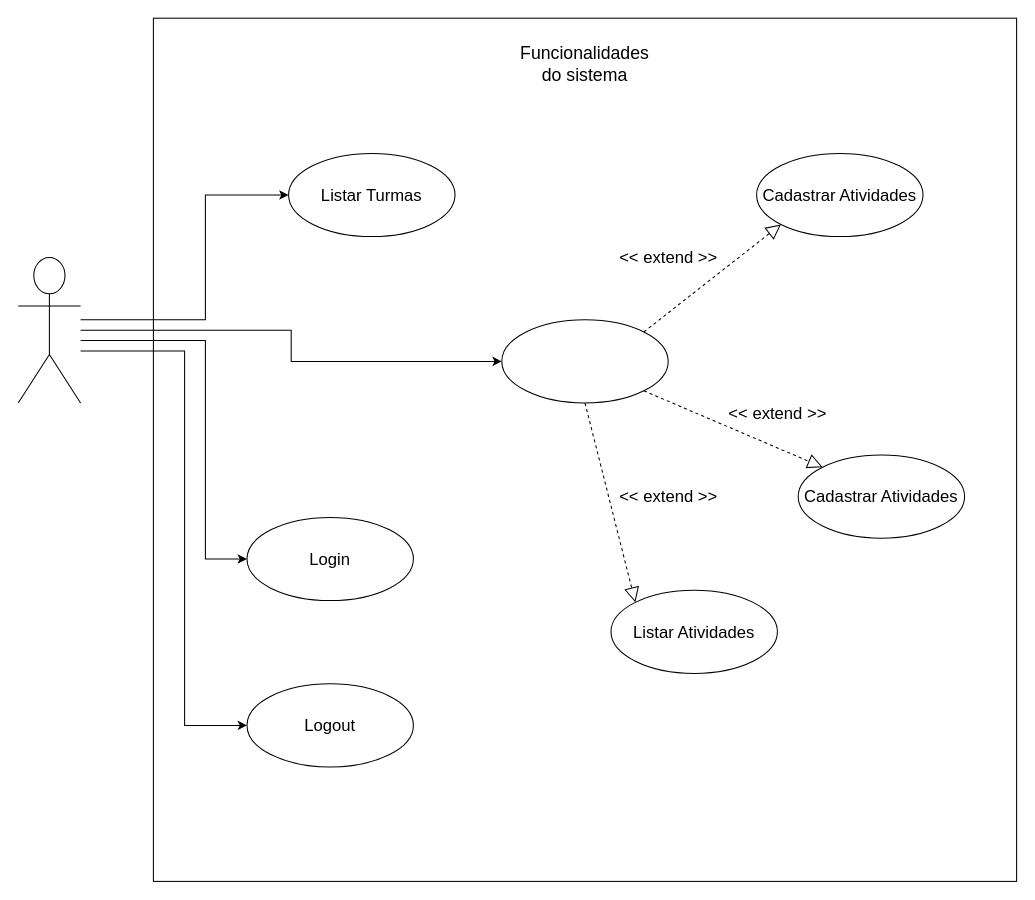
Some shapes in this 1035 by 900 pixel diagram are drawn without their labels. The shapes that lost their labels are listed below. From the top down, each one's centre as x and y in pixels, then its label:
At pixel 49 329: "Usuário".
At pixel 584 361: "Cadastrar Turmas".
